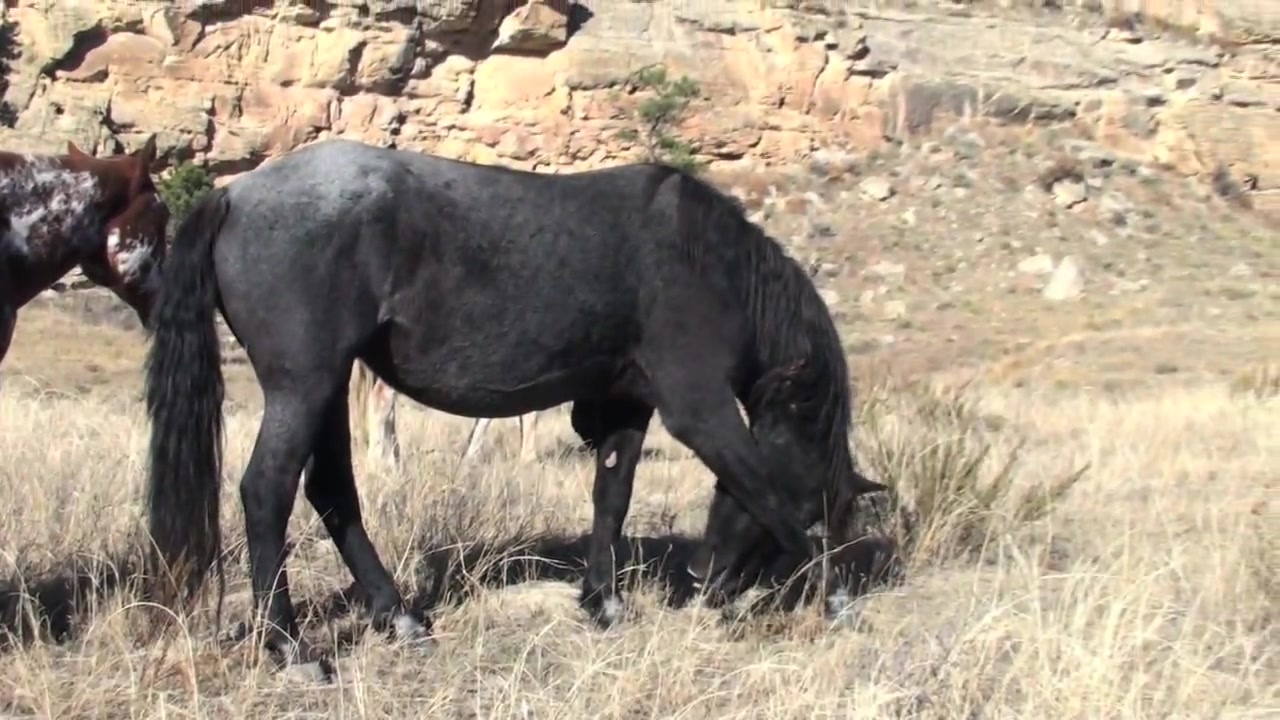horse: (144, 139, 884, 688)
